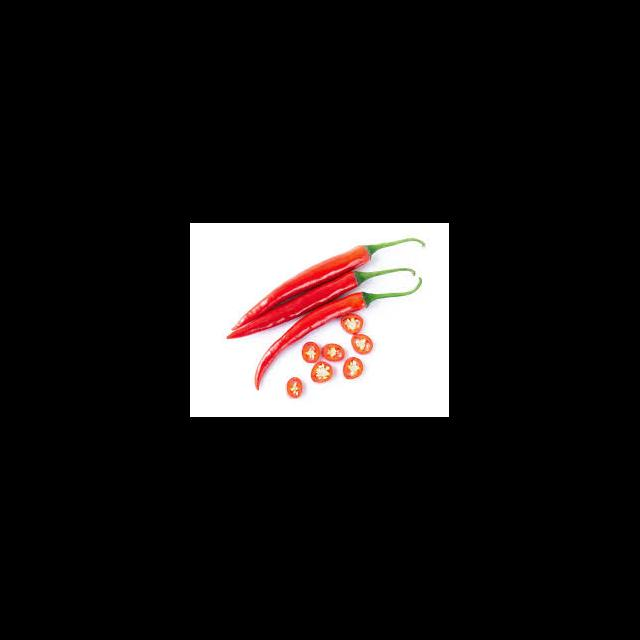chili_pepper: (231, 238, 424, 330), (254, 292, 373, 393), (226, 273, 358, 340), (310, 355, 336, 385), (342, 357, 368, 381), (340, 314, 366, 336), (350, 334, 376, 356), (284, 376, 306, 401), (322, 343, 346, 363), (302, 342, 322, 364)
